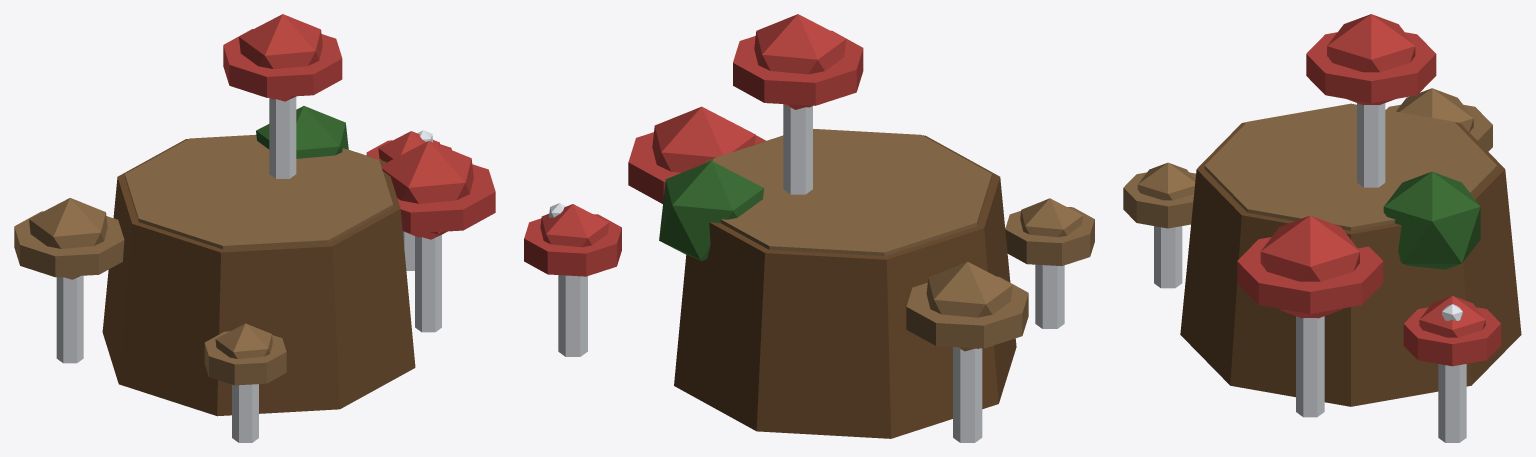
The model's file is buisson_foret_3.glb.
3 renders of one model, left to right at view 1: azimuth 30°, elevation 25°; view 2: azimuth 150°, elevation 25°; view 3: azimuth 270°, elevation 25°, orthographic. The views are drawn at different scales.
Visible parts, largest first — view 1: souche.002, champignons_bois.002, champignons_rouge.002, champignons_blanc.002, champignons_feuille_sombre.002; view 2: souche.002, champignons_bois.002, champignons_rouge.002, champignons_blanc.002, champignons_feuille_sombre.002; view 3: souche.002, champignons_bois.002, champignons_rouge.002, champignons_blanc.002, champignons_feuille_sombre.002.
Boxes of the visible parts, x1,y1,x2,y2 form: souche.002: (102, 139, 415, 416); champignons_bois.002: (14, 134, 393, 385); champignons_rouge.002: (223, 14, 495, 239); champignons_blanc.002: (56, 97, 441, 442); champignons_feuille_sombre.002: (256, 106, 348, 158); souche.002: (674, 135, 1016, 438); champignons_bois.002: (713, 129, 1094, 351); champignons_rouge.002: (524, 14, 863, 276); champignons_blanc.002: (549, 104, 1064, 442); champignons_feuille_sombre.002: (659, 161, 764, 261); souche.002: (1180, 122, 1521, 406); champignons_bois.002: (1123, 88, 1497, 230); champignons_rouge.002: (1237, 14, 1501, 366); champignons_blanc.002: (1154, 103, 1466, 442); champignons_feuille_sombre.002: (1383, 171, 1480, 269).
Size of the model in its own units: 0.66 by 0.459 by 0.49.
